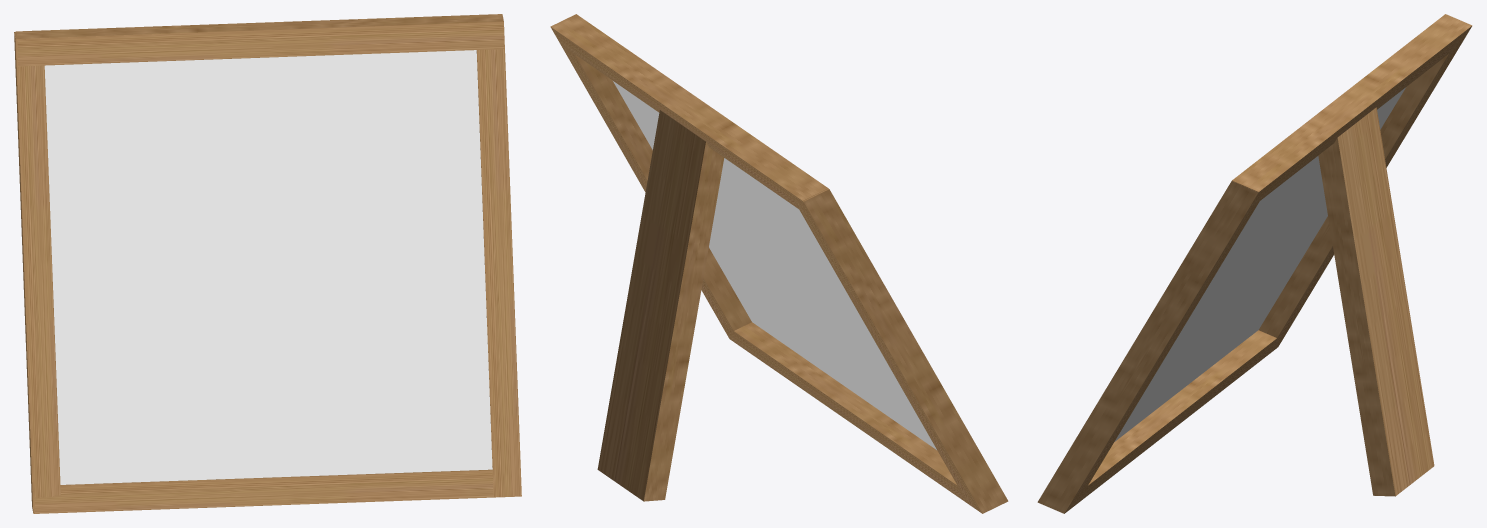
Rendered from Wall Cabinet 1 (Parts - Side Picture 2).fbx.
3 renders of one model, left to right at view 1: azimuth 30°, elevation 25°; view 2: azimuth 150°, elevation 25°; view 3: azimuth 270°, elevation 25°, orthographic. The views are drawn at different scales.
Visible parts, largest first — view 1: Cube.003, Cube.002; view 2: Cube.002, Cube.003; view 3: Cube.002, Cube.003.
Part boxes in pixels (x1=…): Cube.003: x1=44, y1=50, x2=492, y2=484; Cube.002: x1=14, y1=14, x2=521, y2=513; Cube.002: x1=550, y1=14, x2=1008, y2=513; Cube.003: x1=613, y1=81, x2=936, y2=449; Cube.002: x1=1037, y1=14, x2=1472, y2=513; Cube.003: x1=1114, y1=87, x2=1405, y2=441.
Size of the model in its own units: 0.2292 by 0.1822 by 0.192.
2 materials, 2 textured.
